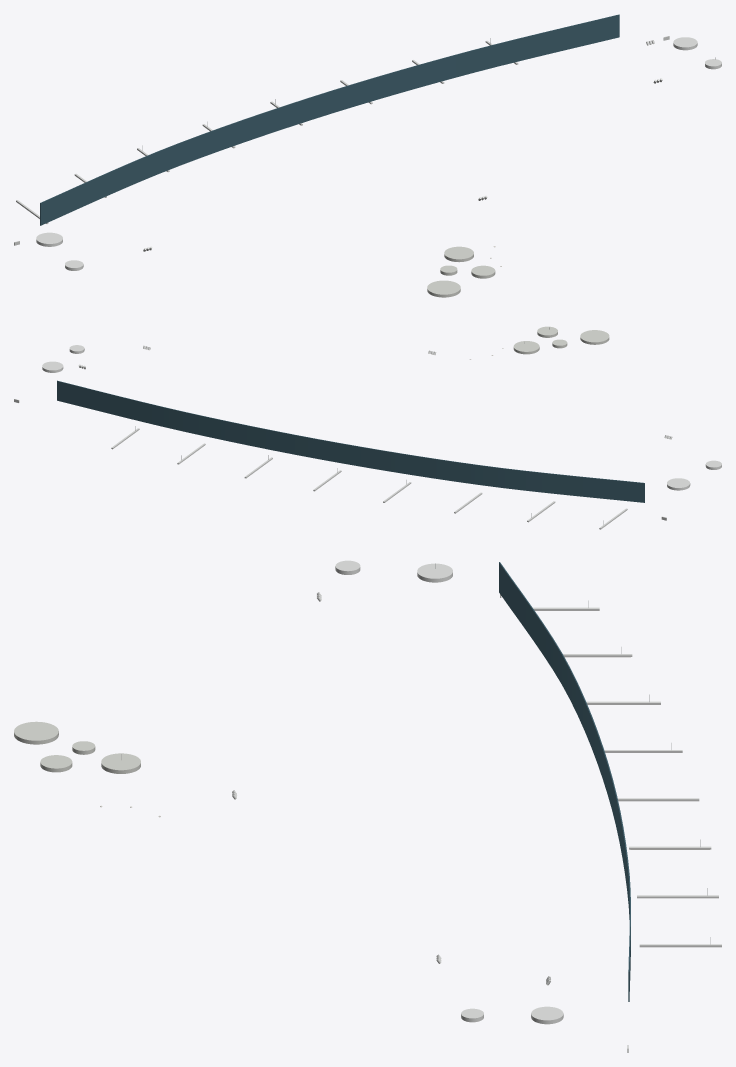
The model's file is SM_L2_Lighting_Solid_958809afcb_0.fbx.
The picture shows the model from 3 angles, top to bottom: view 1: azimuth 30°, elevation 25°; view 2: azimuth 150°, elevation 25°; view 3: azimuth 270°, elevation 25°; orthographic projection. The views are drawn at different scales.
Parts seen in each view (by area): view 1: SM_L2_Lighting_Solid_958809afcb_0; view 2: SM_L2_Lighting_Solid_958809afcb_0; view 3: SM_L2_Lighting_Solid_958809afcb_0.
Part boxes in pixels (x1,y1,x2,y2): SM_L2_Lighting_Solid_958809afcb_0: (14, 14, 721, 297); SM_L2_Lighting_Solid_958809afcb_0: (14, 326, 721, 529); SM_L2_Lighting_Solid_958809afcb_0: (14, 560, 721, 1052).
Size of the model in its own units: 43.88 by 28.41 by 2.16.
